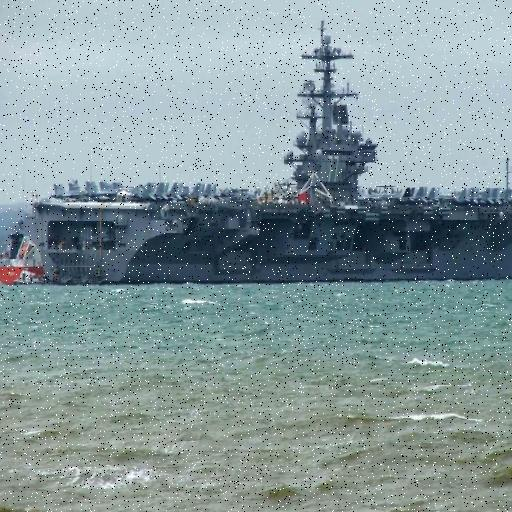Portanaves: (18, 19, 512, 284)
